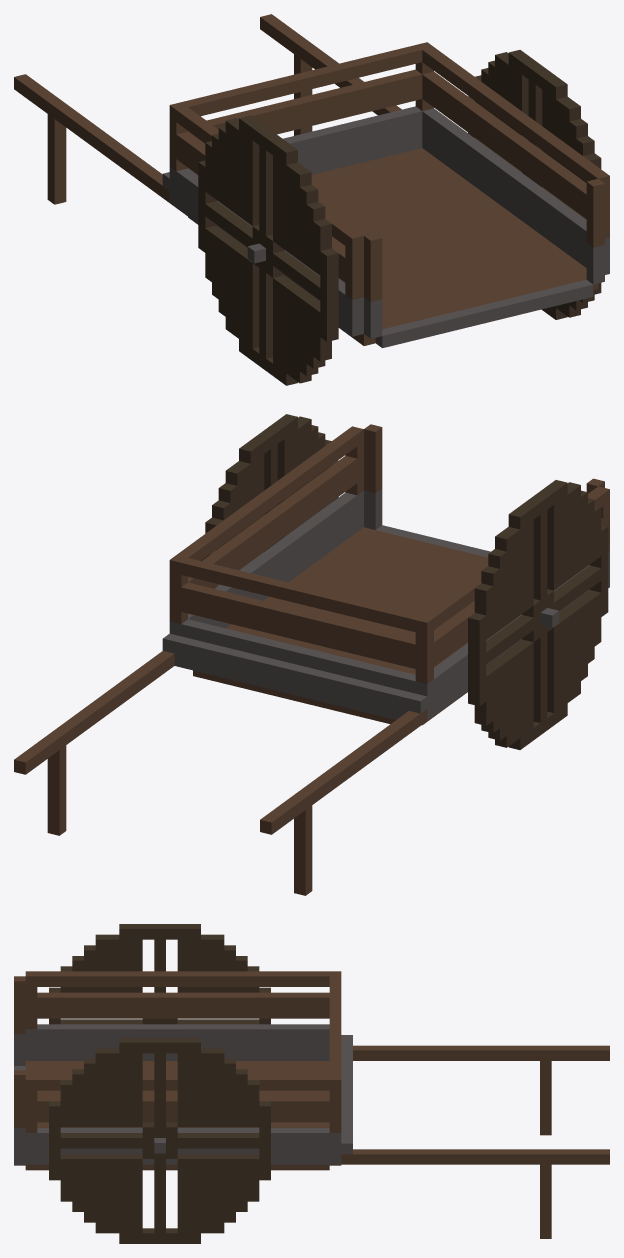
Rendered from Carroça.obj.
The picture shows the model from 3 angles, top to bottom: view 1: azimuth 30°, elevation 25°; view 2: azimuth 150°, elevation 25°; view 3: azimuth 270°, elevation 25°; orthographic projection. The views are drawn at different scales.
Bounding box in the file's own units: 2.6 × 1.9 × 5.1.
Materials: 1 (1 with a texture image).
